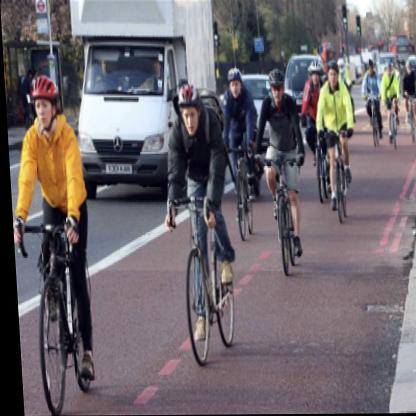With Helmet: (24, 73, 59, 136), (172, 84, 204, 135), (265, 65, 287, 107), (222, 65, 244, 102), (323, 58, 341, 89)
